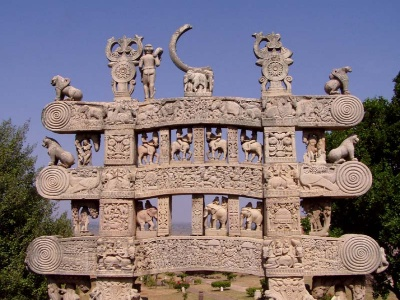torana: (34, 33, 380, 297)
